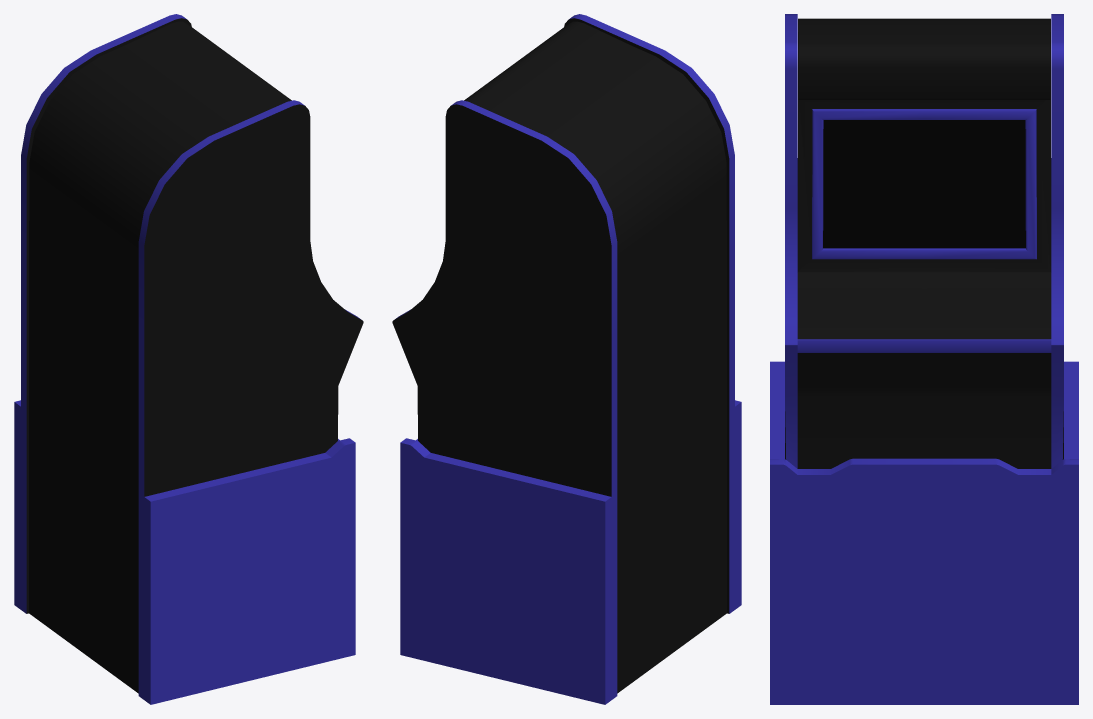
File: arcade_machine.fbx
The picture shows the model from 3 angles, left to right: view 1: azimuth 30°, elevation 25°; view 2: azimuth 150°, elevation 25°; view 3: azimuth 270°, elevation 25°; orthographic projection. The views are drawn at different scales.
Parts seen in each view (by area): view 1: Cube, Cube.001; view 2: Cube, Cube.001; view 3: Cube.001, Cube.
Boxes of the visible parts, x1,y1,x2,y2 form: Cube: (14,14,363,704); Cube.001: (29,21,291,693); Cube: (392,14,741,704); Cube.001: (464,21,726,693); Cube.001: (797,18,1051,468); Cube: (770,14,1078,704).
Bounding box in the file's own units: 243 × 226 × 549.
